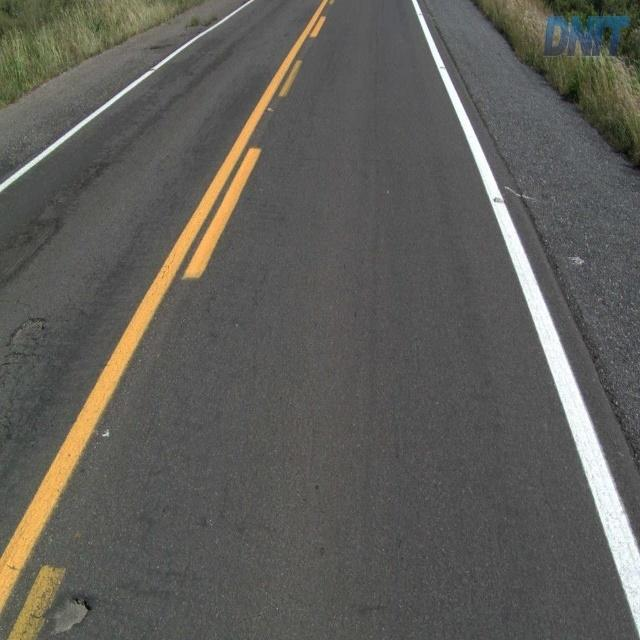pothole: (6, 308, 55, 358), (47, 590, 98, 638)
